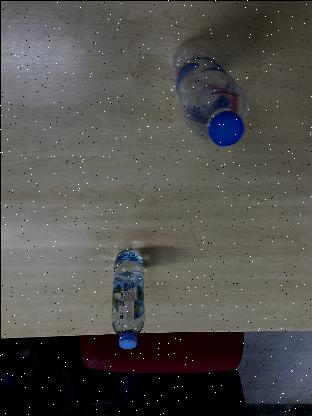Plastic Bottle: (168, 36, 246, 148), (110, 249, 144, 350)
